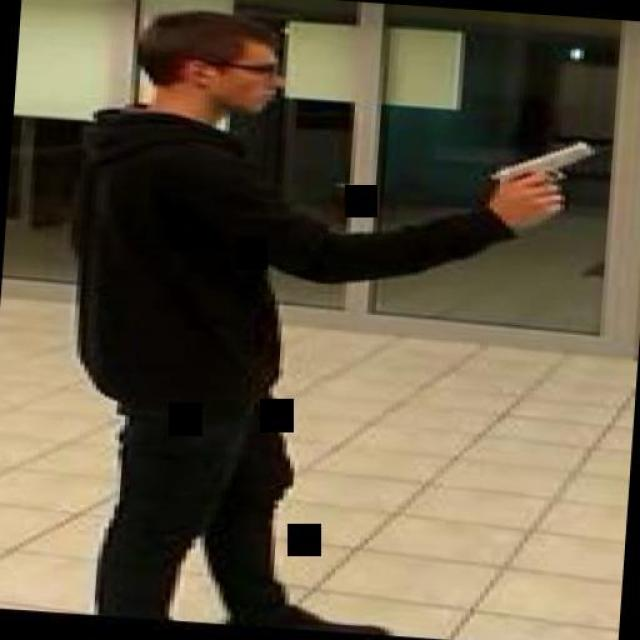gun: (480, 131, 591, 215)
